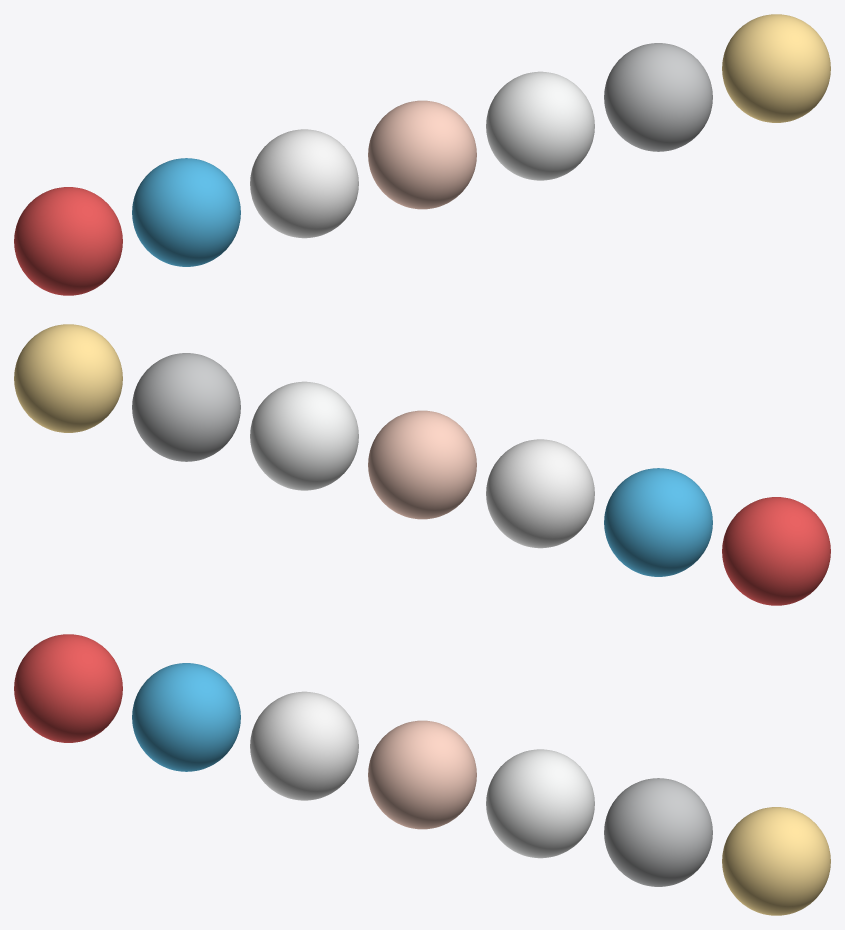
File: spheres.glb
3 renders of one model, top to bottom at view 1: azimuth 30°, elevation 25°; view 2: azimuth 150°, elevation 25°; view 3: azimuth 330°, elevation 25°, orthographic.
Visible parts, largest first — view 1: sphere 1, sphere 5, sphere 3, sphere 0, sphere 6, sphere 2, sphere 4; view 2: sphere 1, sphere 5, sphere 3, sphere 0, sphere 6, sphere 2, sphere 4; view 3: sphere 1, sphere 5, sphere 3, sphere 0, sphere 6, sphere 2, sphere 4.
Boxes of the visible parts, left/top/right/bottom form: sphere 1: left=132, top=158, right=240, bottom=266; sphere 5: left=604, top=43, right=712, bottom=151; sphere 3: left=368, top=100, right=476, bottom=209; sphere 0: left=14, top=187, right=122, bottom=295; sphere 6: left=722, top=14, right=830, bottom=122; sphere 2: left=250, top=129, right=358, bottom=238; sphere 4: left=486, top=71, right=594, bottom=180; sphere 1: left=604, top=468, right=712, bottom=576; sphere 5: left=132, top=353, right=240, bottom=461; sphere 3: left=368, top=410, right=476, bottom=519; sphere 0: left=722, top=497, right=830, bottom=605; sphere 6: left=14, top=324, right=122, bottom=432; sphere 2: left=486, top=439, right=594, bottom=548; sphere 4: left=250, top=381, right=358, bottom=490; sphere 1: left=132, top=663, right=240, bottom=771; sphere 5: left=604, top=778, right=712, bottom=886; sphere 3: left=368, top=720, right=476, bottom=829; sphere 0: left=14, top=634, right=122, bottom=742; sphere 6: left=722, top=807, right=830, bottom=915; sphere 2: left=250, top=691, right=358, bottom=800; sphere 4: left=486, top=749, right=594, bottom=858.
Size of the model in its own units: 8.5 by 1 by 1.
